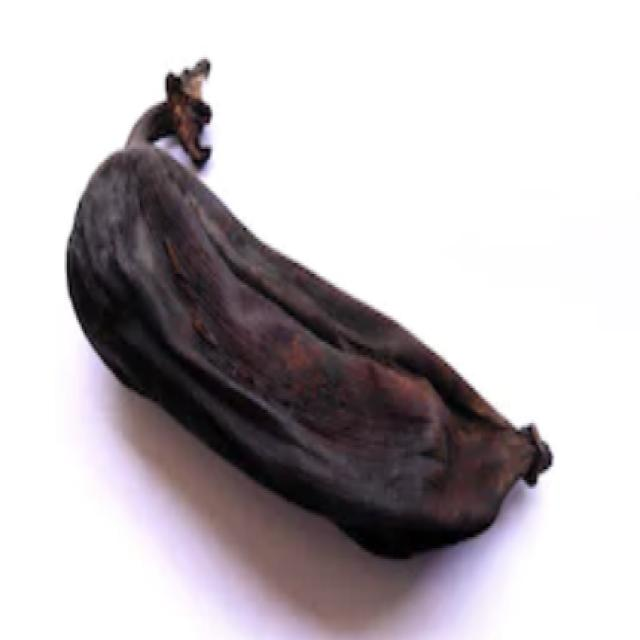Rotten: (42, 52, 565, 579)
